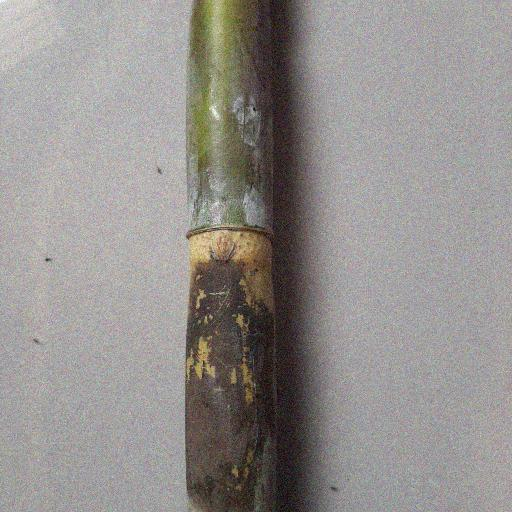Bud: (204, 229, 239, 266)
